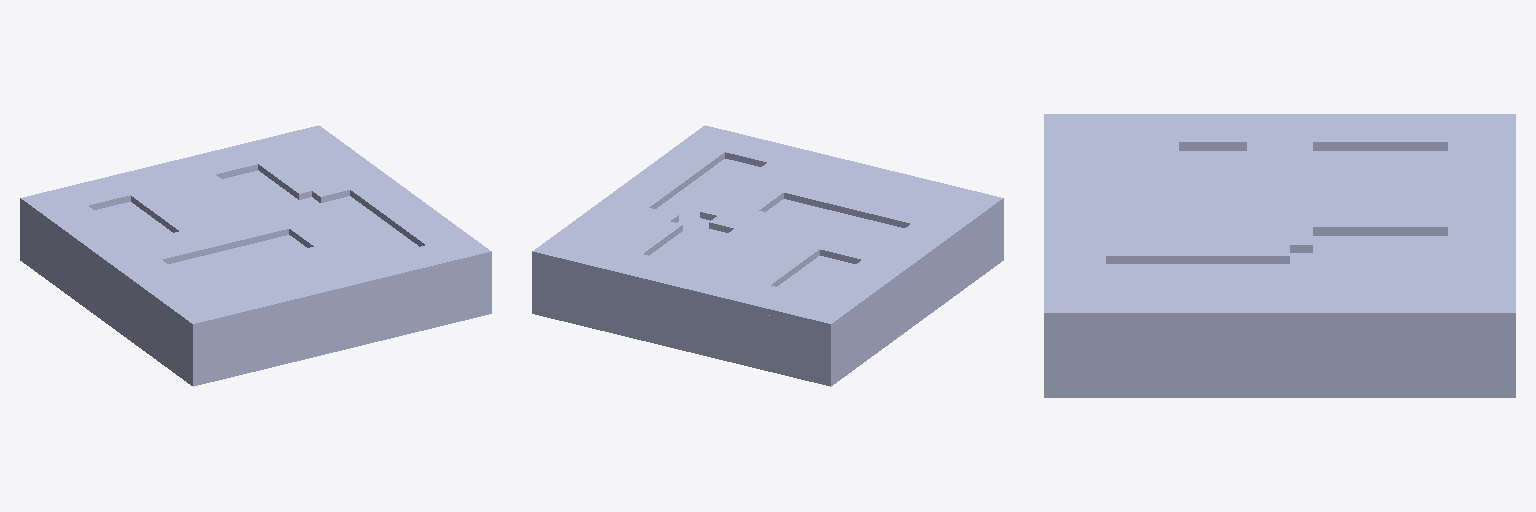
URDF robot description (aruco_marker):
<?xml version="1.0" encoding="utf-8"?>
<!-- This URDF was automatically created by SolidWorks to URDF Exporter! Originally created by [author] ([email redacted]) 
     Commit Version: 1.5.1-0-g916b5db  Build Version: 1.5.7152.31018
     For more information, please see http://wiki.ros.org/sw_urdf_exporter -->
<robot
  name="aruco_marker">
  <link
    name="base_link">
    <inertial>
      <origin
        xyz="0.053520969588476 -0.000678348056171242 -0.0277754718111396"
        rpy="0 0 0" />
      <mass
        value="0.0224018252295753" />
      <inertia
        ixx="4.83862265108561E-06"
        ixy="-1.45284166502096E-22"
        ixz="-9.14795583034646E-23"
        iyy="9.37469320384242E-06"
        iyz="1.33797870130456E-22"
        izz="4.83862265108561E-06" />
    </inertial>
    <visual>
      <origin
        xyz="0 0 0"
        rpy="0 0 0" />
      <geometry>
        <mesh
          filename="package://aruco_marker/meshes/base_link.STL" />
      </geometry>
      <material
        name="">
        <color
          rgba="0.792156862745098 0.819607843137255 0.933333333333333 1" />
      </material>
    </visual>
    <collision>
      <origin
        xyz="0 0 0"
        rpy="0 0 0" />
      <geometry>
        <mesh
          filename="package://aruco_marker/meshes/base_link.STL" />
      </geometry>
    </collision>
  </link>
  <link
    name="aruco_black">
    <inertial>
      <origin
        xyz="-0.00027873 0.0095 -1.6255E-05"
        rpy="0 0 0" />
      <mass
        value="0.0019727" />
      <inertia
        ixx="4.7044E-07"
        ixy="-8.6215E-26"
        ixz="1.6309E-08"
        iyy="9.1631E-07"
        iyz="-3.5453E-26"
        izz="4.462E-07" />
    </inertial>
    <visual>
      <origin
        xyz="0 0 0"
        rpy="0 0 0" />
      <geometry>
        <mesh
          filename="package://aruco_marker/meshes/aruco_black.STL" />
      </geometry>
      <material
        name="">
        <color
          rgba="0.79216 0.81961 0.93333 1" />
      </material>
    </visual>
    <collision>
      <origin
        xyz="0 0 0"
        rpy="0 0 0" />
      <geometry>
        <mesh
          filename="package://aruco_marker/meshes/aruco_black.STL" />
      </geometry>
    </collision>
  </link>
  <joint
    name="aruco_black_joint"
    type="fixed">
    <origin
      xyz="0.053521 0.027775 -0.0051871"
      rpy="1.5708 0 0" />
    <parent
      link="base_link" />
    <child
      link="aruco_black" />
    <axis
      xyz="0 0 0" />
  </joint>
</robot>

--- Render facts (derived) ---
3 views of the same robot in one strip: view 1: azimuth 30°, elevation 25°; view 2: azimuth 150°, elevation 25°; view 3: azimuth 270°, elevation 25° (orthographic).
Robot: aruco_marker — 2 links, 1 joints (1 fixed); root link base_link; default pose: all joints at 0.
Visible links, largest first — view 1: aruco_black, base_link; view 2: aruco_black, base_link; view 3: aruco_black, base_link.
Boxes of the visible links, x1,y1,x2,y2 form: aruco_black: (20,125,491,329); base_link: (20,170,491,386); aruco_black: (532,125,1003,329); base_link: (532,159,1003,386); aruco_black: (1044,114,1515,320); base_link: (1044,151,1515,397).
Size in the robot's own frame: 0.05 by 0.05 by 0.01 metres.
2 mesh visuals loaded from 2 distinct referenced files (2 binary STL).